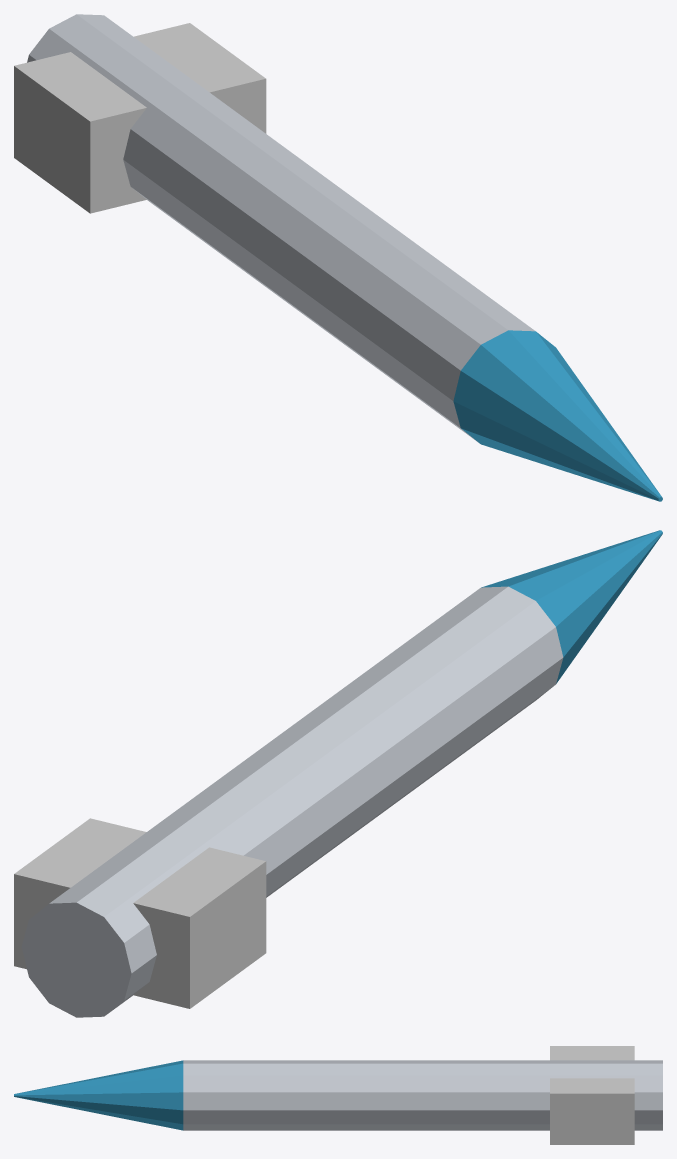
The model's file is gauss_slug.obj.
3 renders of one model, top to bottom at view 1: azimuth 30°, elevation 25°; view 2: azimuth 150°, elevation 25°; view 3: azimuth 270°, elevation 25°, orthographic. The views are drawn at different scales.
Visible parts, largest first — view 1: gauss_slug; view 2: gauss_slug; view 3: gauss_slug.
Part boxes in pixels (x1,y1,x2,y2): gauss_slug: (14, 14, 662, 501); gauss_slug: (14, 530, 662, 1017); gauss_slug: (14, 1046, 662, 1144).
Size of the model in its own units: 0.08 by 0.05 by 0.46.
